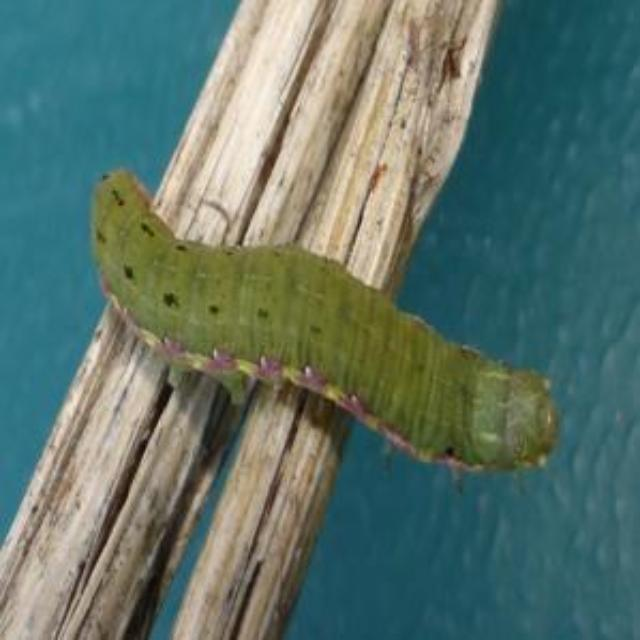Beet armyworm: (61, 137, 601, 515)
